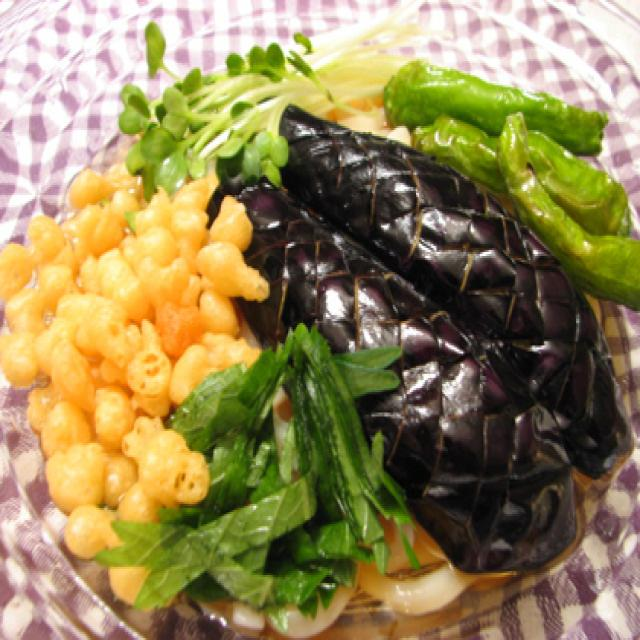鸡蛋料理: (195, 69, 631, 585)
